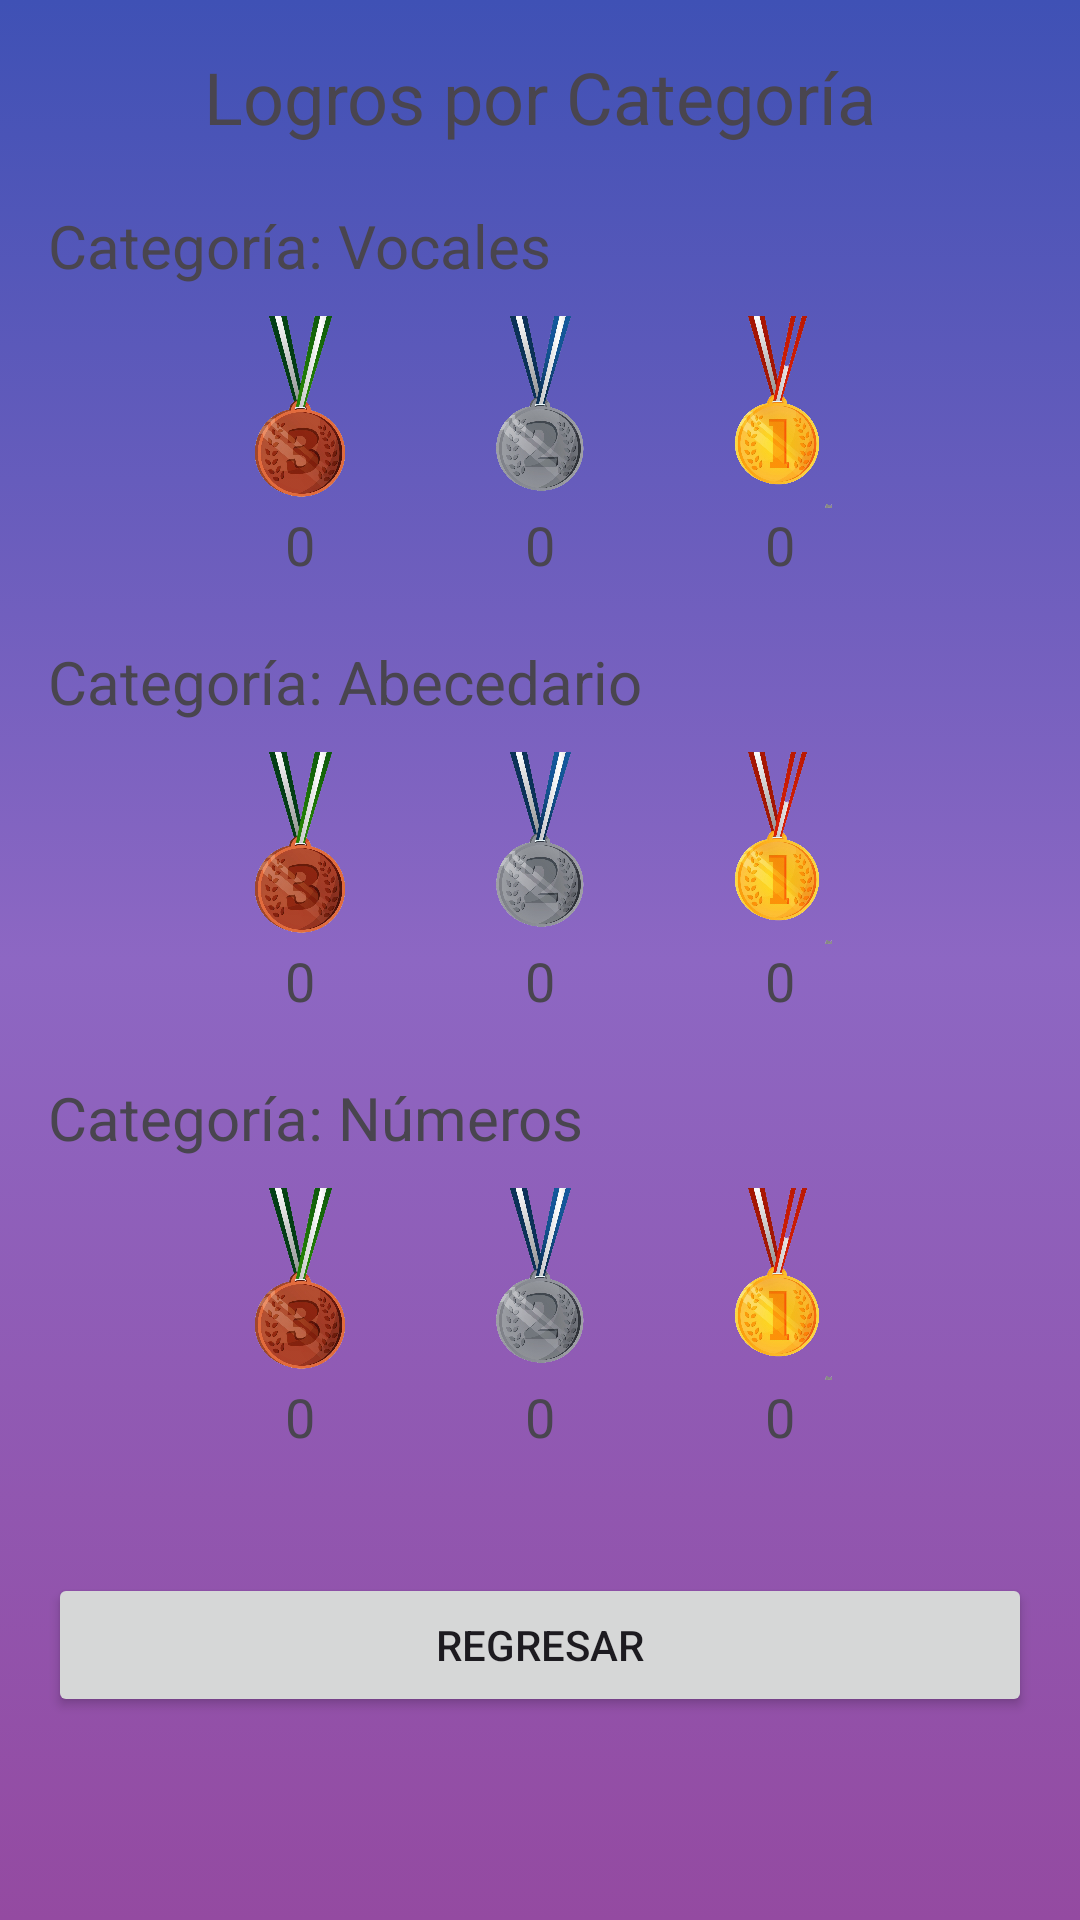

Where to tap for icons on this 1080w x 1920h app screen, as (x=x, y=y):
Medalla Bronce: (x=300, y=406), (x=300, y=842), (x=300, y=1278)
Medalla Oro: (x=783, y=412), (x=783, y=848), (x=783, y=1284)
Medalla Plata: (x=540, y=403), (x=540, y=839), (x=540, y=1275)
